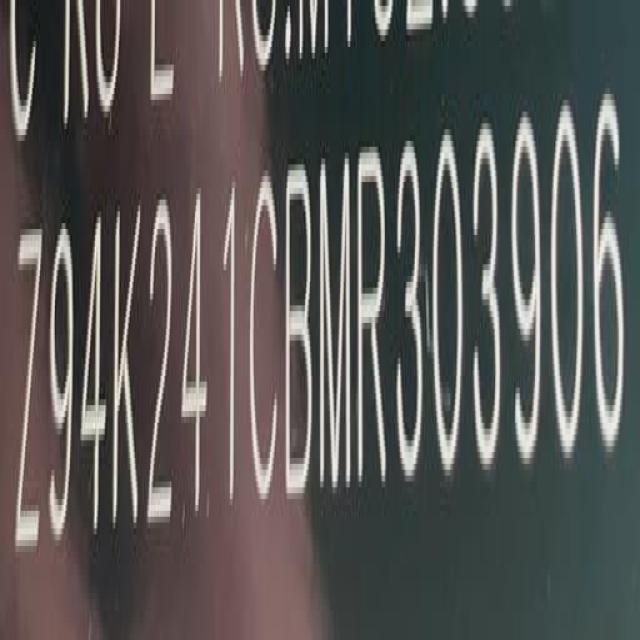0: (547, 101, 584, 468), (432, 128, 464, 486)
1: (222, 168, 238, 511)
2: (145, 197, 175, 540)
3: (396, 135, 428, 489), (473, 118, 504, 478)
4: (182, 184, 212, 532), (81, 212, 110, 544)
6: (593, 86, 627, 459)
9: (510, 116, 545, 470), (49, 225, 76, 562)
B: (286, 159, 318, 505)
C: (248, 170, 280, 512)
K: (114, 210, 142, 546)
M: (317, 149, 353, 502)
R: (358, 144, 390, 498)
Z: (16, 227, 43, 573)
